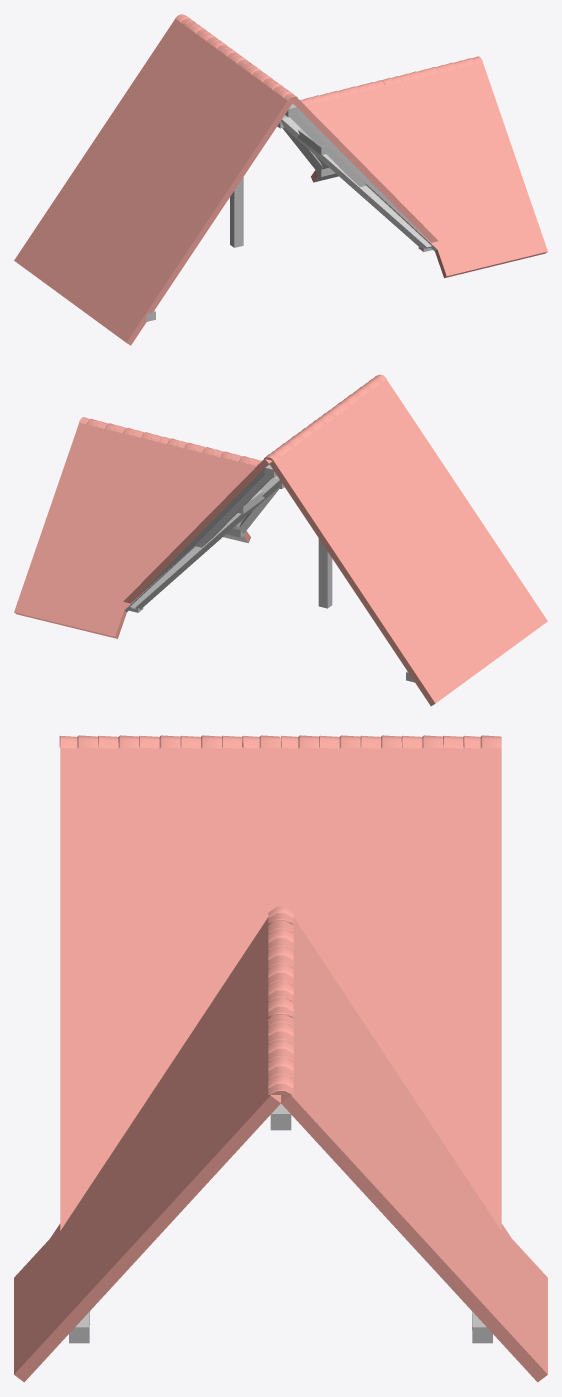
The model's file is dfk_roof_large_intersect_A.fbx.
The picture shows the model from 3 angles, top to bottom: view 1: azimuth 30°, elevation 25°; view 2: azimuth 150°, elevation 25°; view 3: azimuth 270°, elevation 25°; orthographic projection. The views are drawn at different scales.
Parts seen in each view (by area): view 1: dfk_roof_A; view 2: dfk_roof_A; view 3: dfk_roof_A.
Boxes of the visible parts, x1=… form: dfk_roof_A: x1=14, y1=14, x2=547, y2=345; dfk_roof_A: x1=14, y1=374, x2=547, y2=706; dfk_roof_A: x1=14, y1=735, x2=547, y2=1382.
Bounding box in the file's own units: 10.52 × 5.15 × 6.05.
